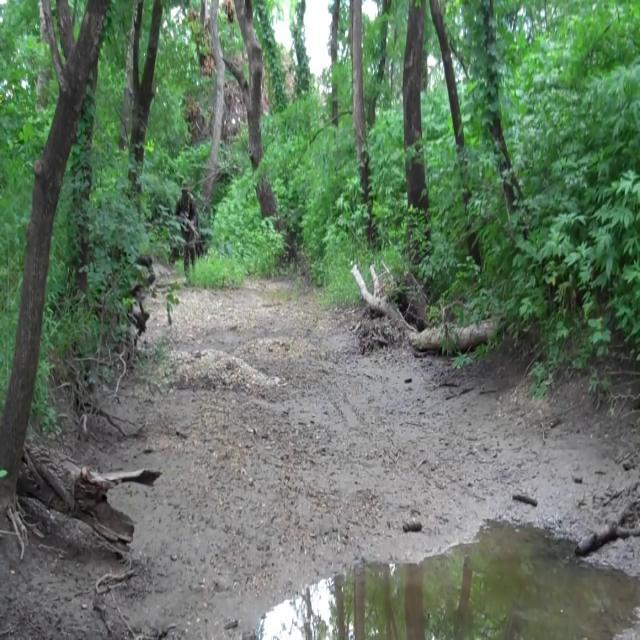MIL_Pax: (174, 180, 201, 279)
